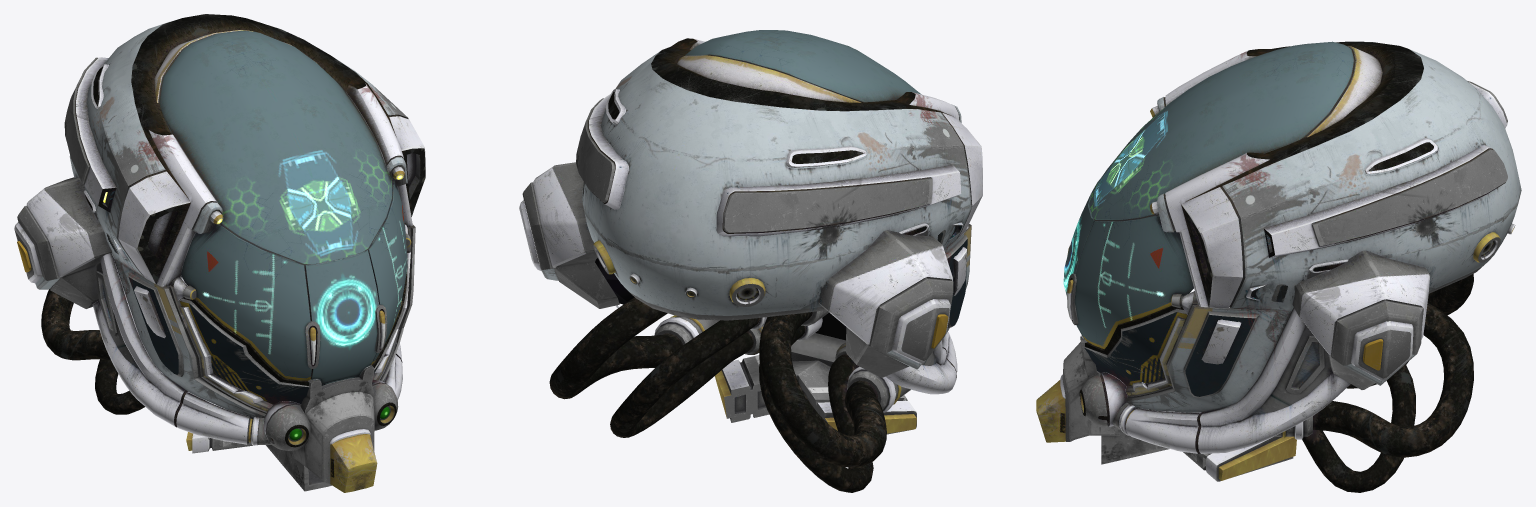
The model's file is machine-demo.glb.
The picture shows the model from 3 angles, left to right: view 1: azimuth 30°, elevation 25°; view 2: azimuth 150°, elevation 25°; view 3: azimuth 270°, elevation 25°; orthographic projection. The views are drawn at different scales.
Parts seen in each view (by area): view 1: node_damagedHelmet_-6514; view 2: node_damagedHelmet_-6514; view 3: node_damagedHelmet_-6514.
Boxes of the visible parts, bbox=[...] form: node_damagedHelmet_-6514: bbox=[14, 14, 425, 492]; node_damagedHelmet_-6514: bbox=[519, 30, 982, 492]; node_damagedHelmet_-6514: bbox=[1036, 41, 1521, 492].
Size of the model in its own units: 1.89 by 1.8 by 2.
Materials: 6 (1 with a texture image).
